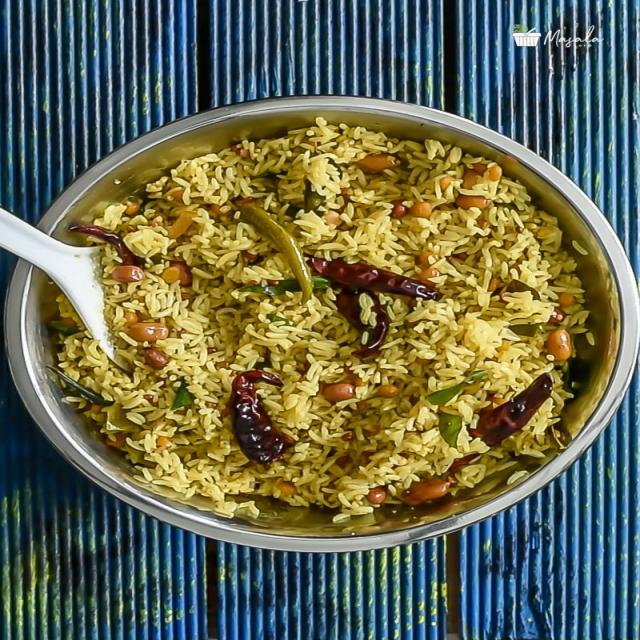puliyogare: (24, 109, 624, 542)
